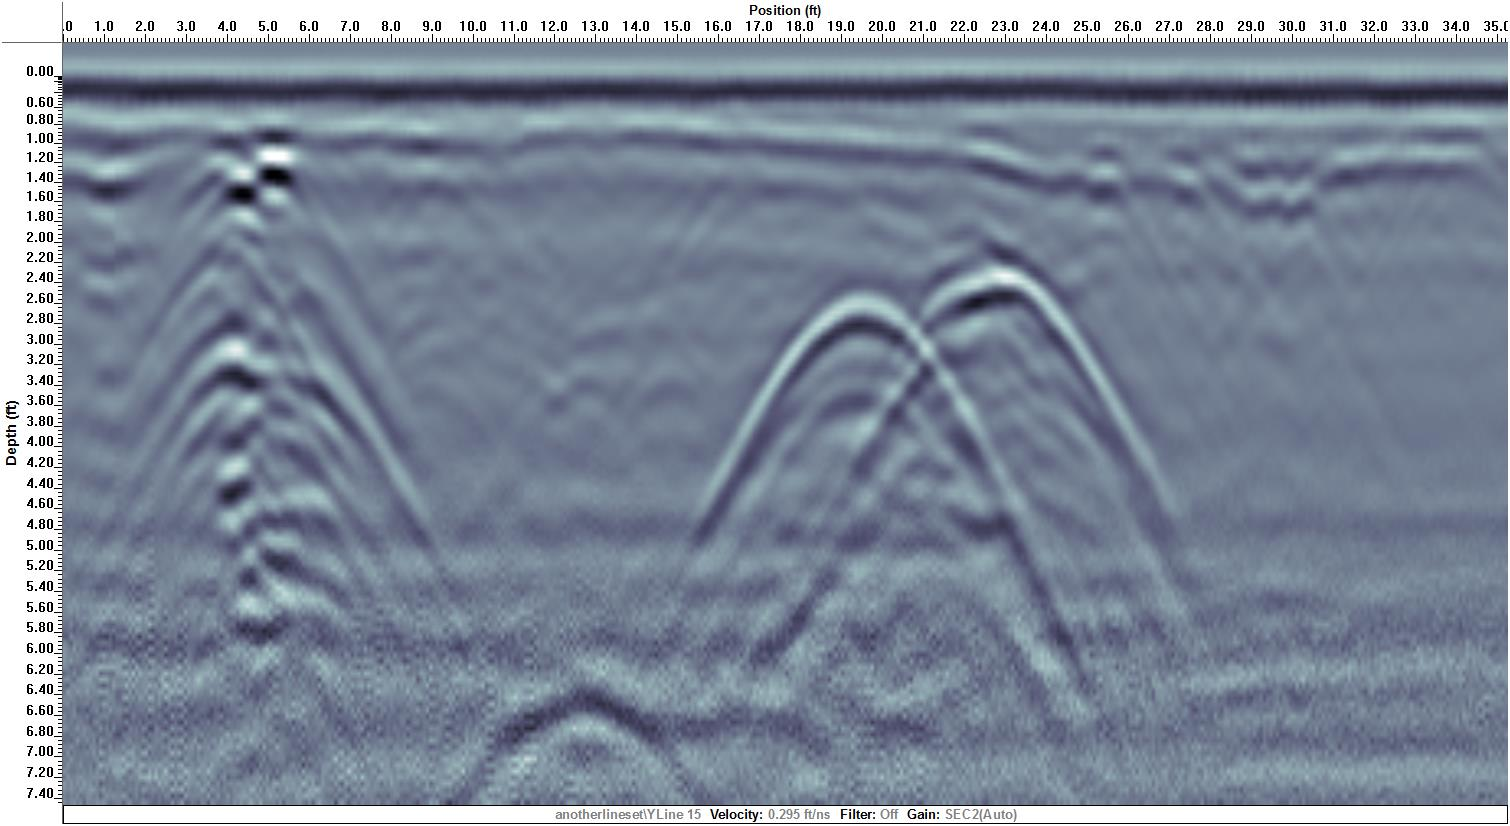hyperbola: (686, 287, 1006, 535), (891, 248, 1093, 501)
